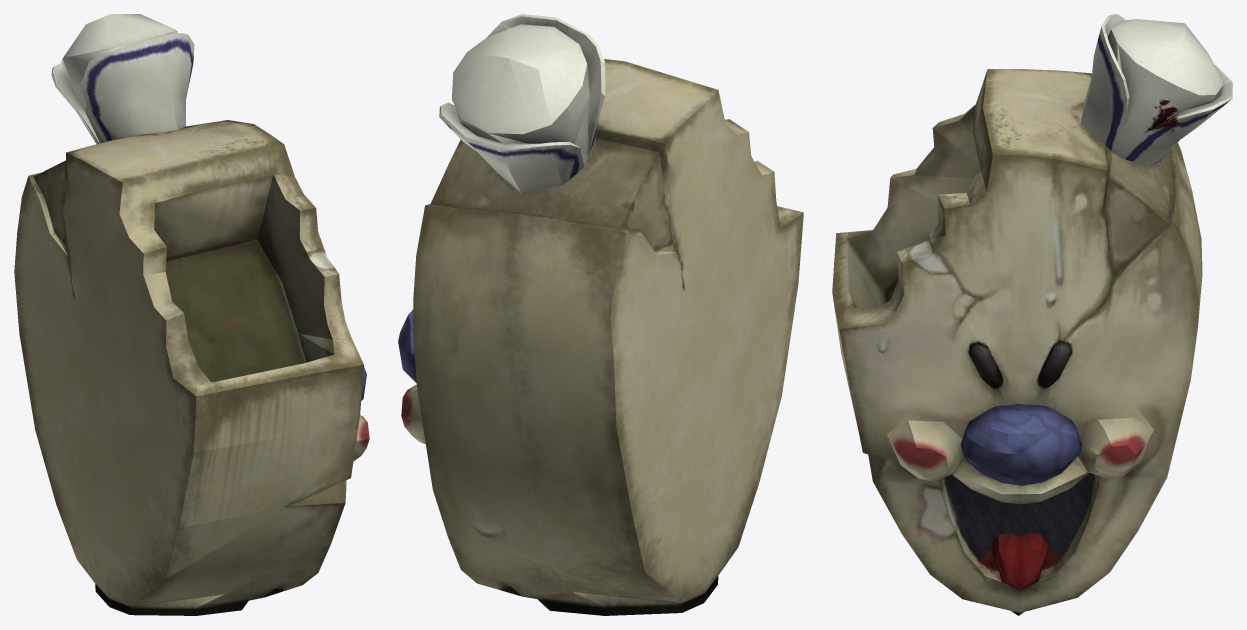
The model's file is ice_scream_8_rods_mask.glb.
The picture shows the model from 3 angles, left to right: view 1: azimuth 30°, elevation 25°; view 2: azimuth 150°, elevation 25°; view 3: azimuth 270°, elevation 25°; orthographic projection. The views are drawn at different scales.
Parts seen in each view (by area): view 1: Object_2; view 2: Object_2; view 3: Object_2.
Part boxes in pixels (<box>): Object_2: <box>14,14,369,615</box>; Object_2: <box>398,14,803,615</box>; Object_2: <box>832,14,1232,615</box>.
Bounding box in the file's own units: 0.4801 × 0.9511 × 0.6153.
1 material, 1 textured.
